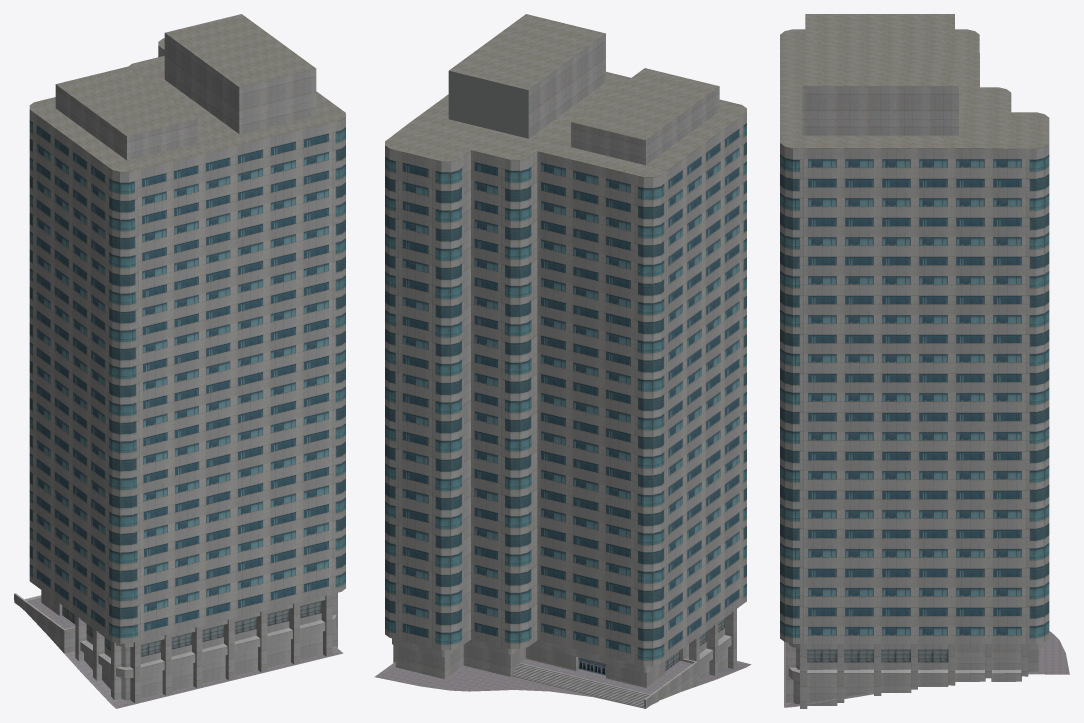
File: skyscrapn201.obj
3 views of the same model, side by side, from view 1: azimuth 30°, elevation 25°; view 2: azimuth 150°, elevation 25°; view 3: azimuth 270°, elevation 25° (orthographic). The views are drawn at different scales.
Visible parts, largest first — view 1: skyscrapn201; view 2: skyscrapn201; view 3: skyscrapn201.
Boxes of the visible parts, left/top/right/bottom form: skyscrapn201: left=14, top=14, right=345, bottom=708; skyscrapn201: left=374, top=14, right=751, bottom=708; skyscrapn201: left=780, top=14, right=1069, bottom=708.
Size of the model in its own units: 79.31 by 189 by 81.11.
